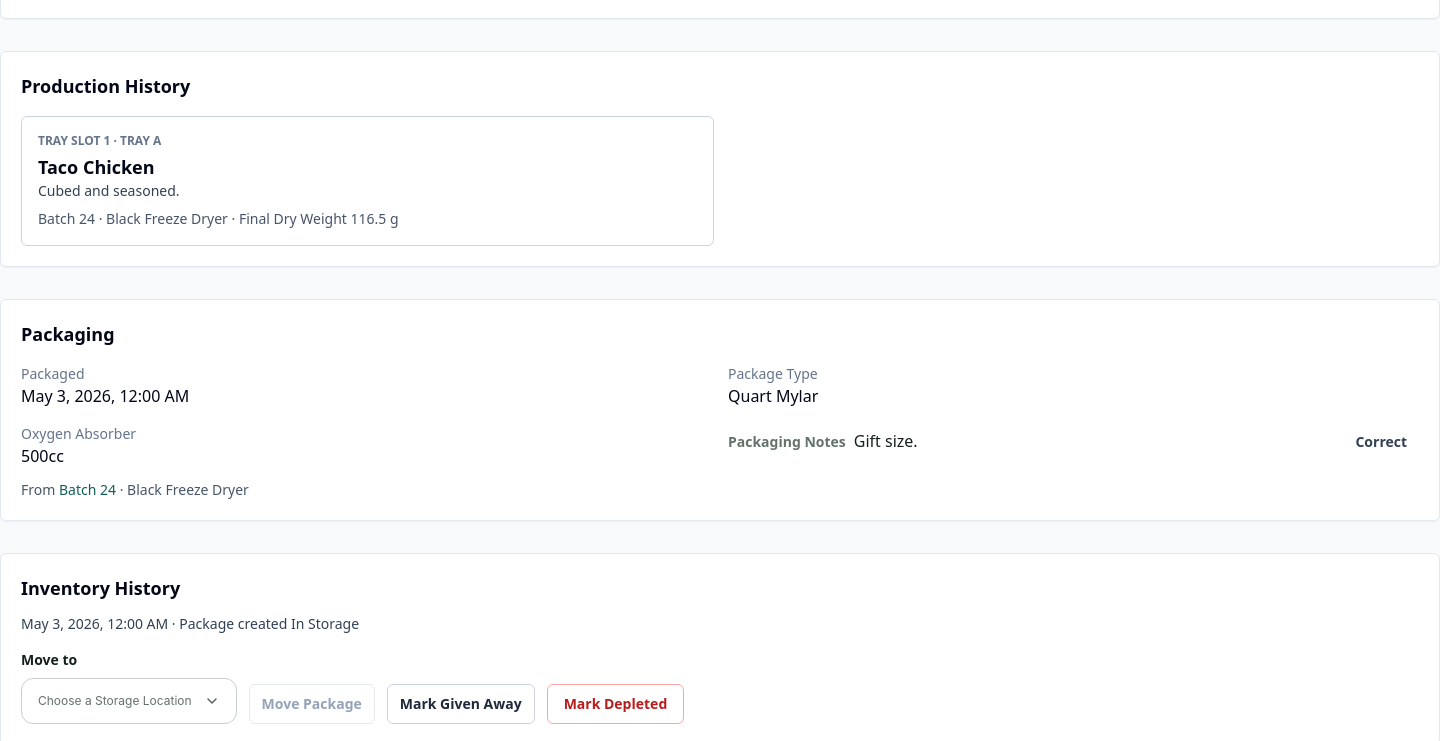
PackageDetailsPage › moves an In Storage Package, excluding the current and archived Storage Locations from the destination list
(page scrolled)
Click the dropdown named "Move to": (129, 701) [21,678,237,724]
(page scrolled)
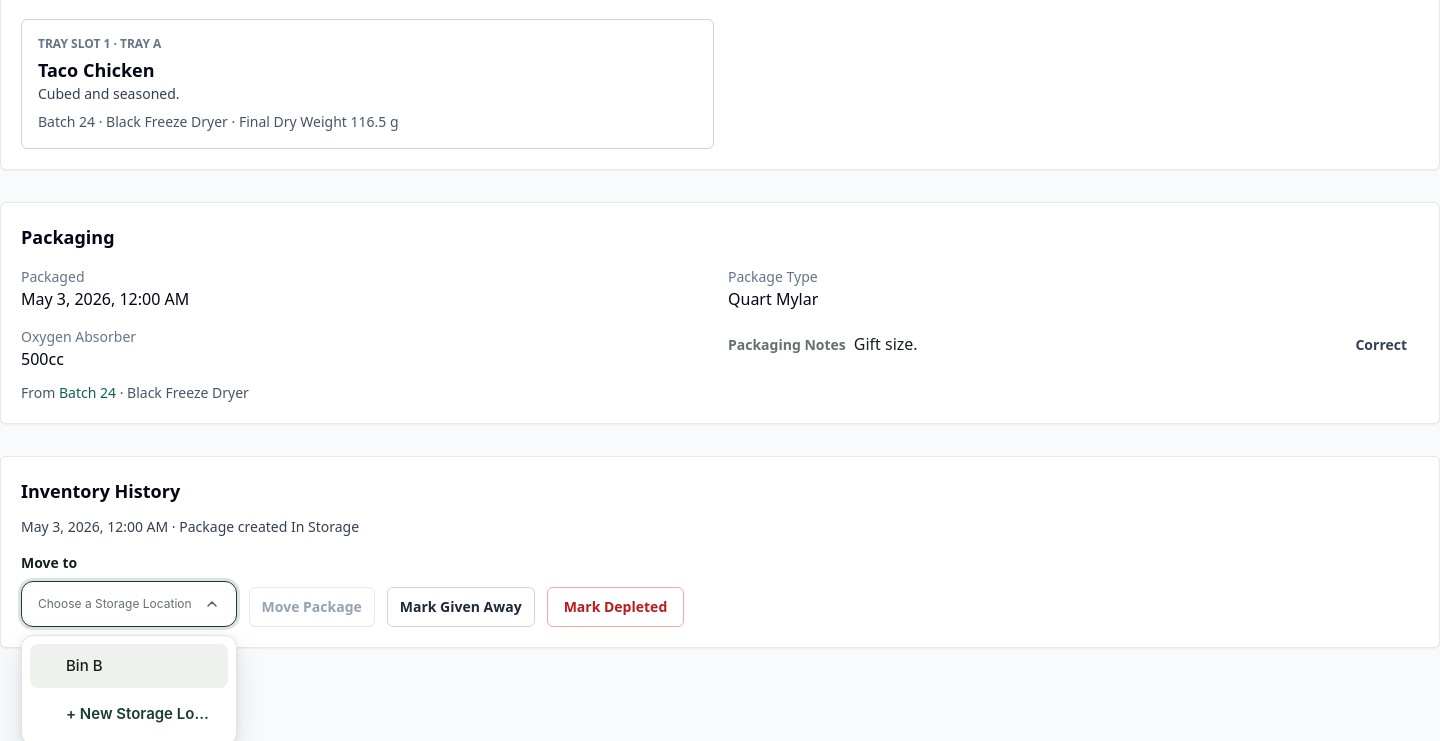
Expected: the option "Bin B" is shown
Click the option "Bin B": (129, 666) [30,644,228,688]
(page scrolled)
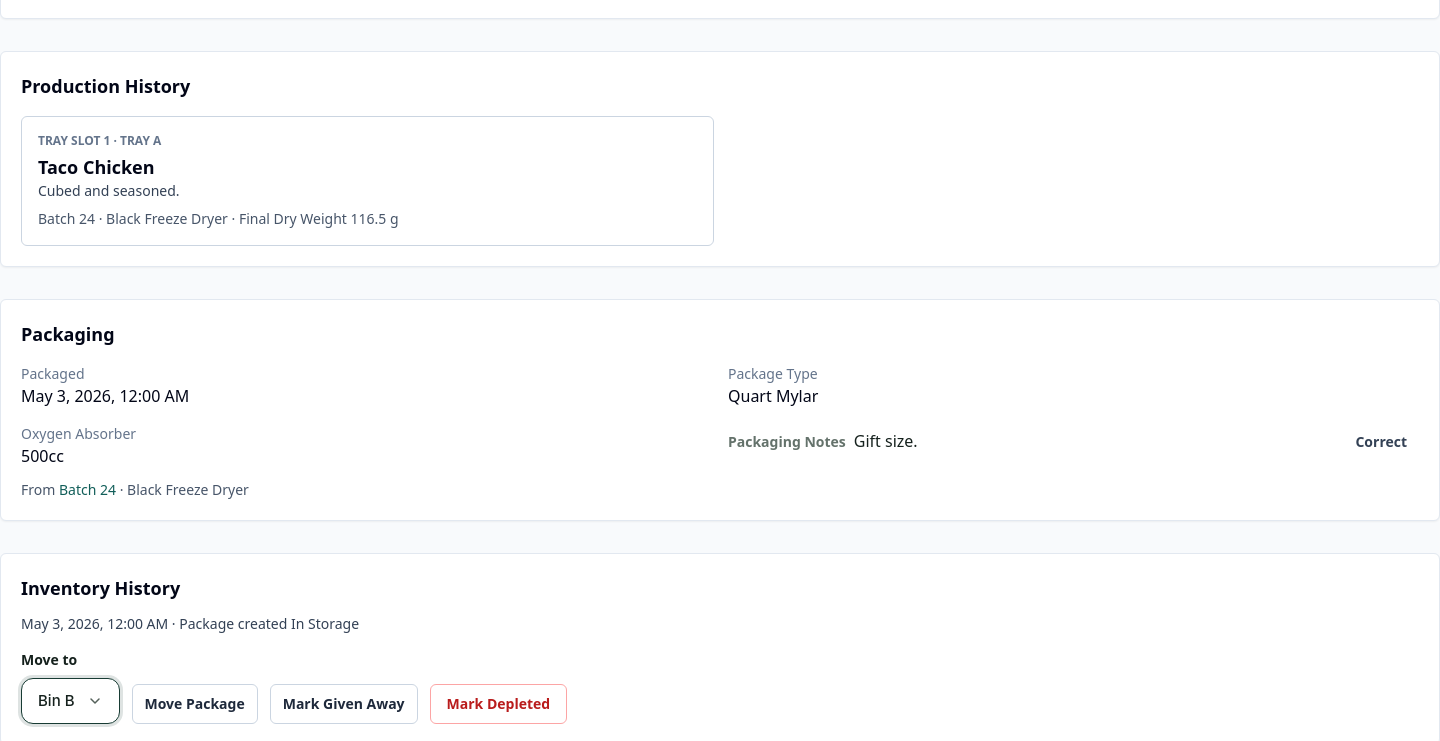
Click the button "Move Package": (195, 704) [132,684,258,724]
(page scrolled)
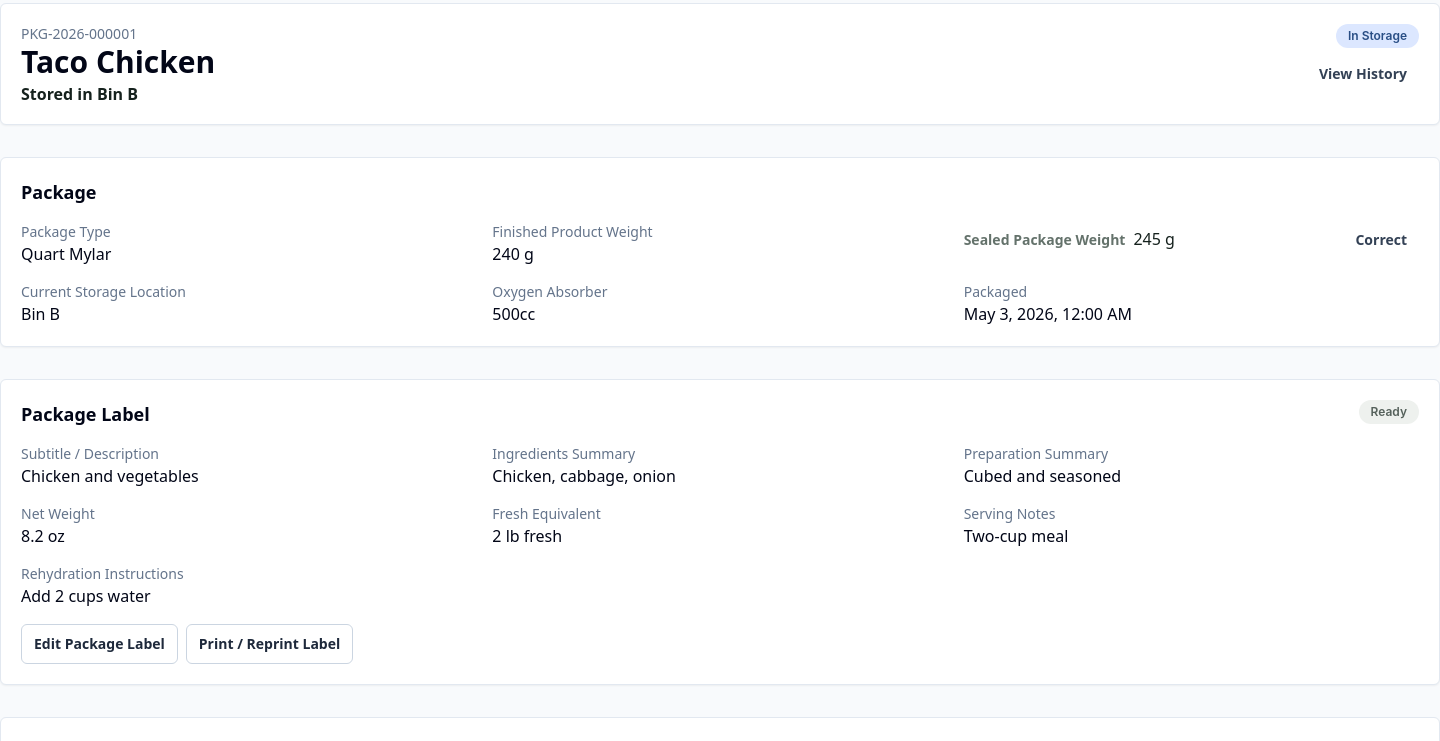
Expected: the text "Bin B" is shown, [21,303,60,325]
